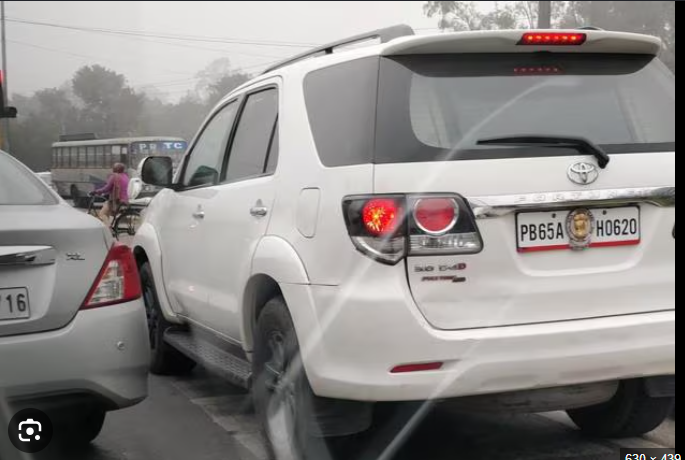licence: (517, 204, 642, 254)
